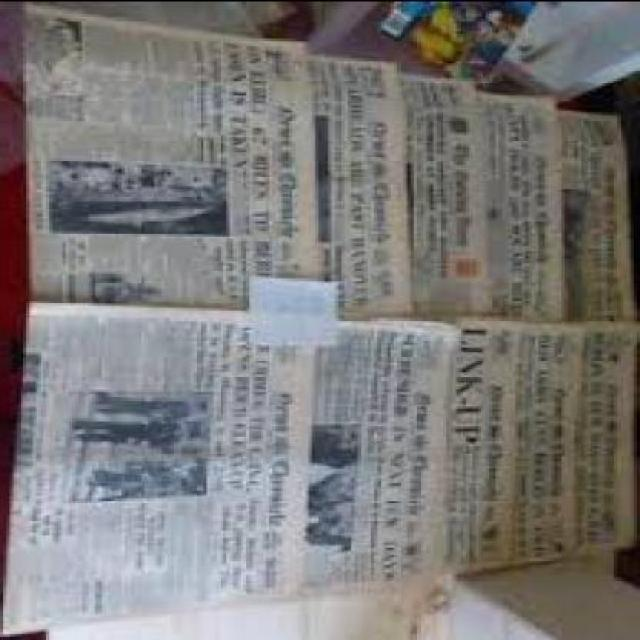PAPER: (3, 296, 319, 630), (29, 2, 334, 300), (299, 313, 466, 593), (321, 55, 414, 313), (413, 69, 496, 314), (456, 316, 526, 569), (522, 316, 590, 561), (565, 106, 637, 314), (496, 86, 561, 314), (588, 316, 638, 550), (256, 272, 344, 343)
